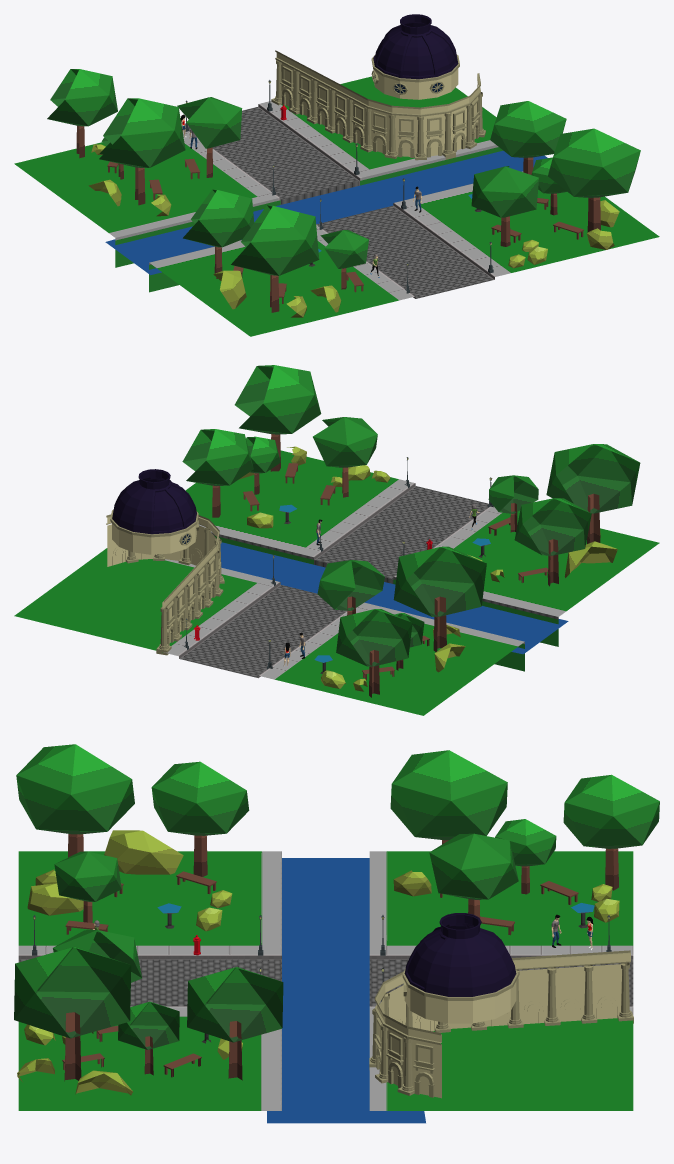
Rendered from museums_insel.glb.
3 renders of one model, top to bottom at view 1: azimuth 30°, elevation 25°; view 2: azimuth 150°, elevation 25°; view 3: azimuth 270°, elevation 25°, orthographic. The views are drawn at different scales.
Parts seen in each view (by area): view 1: Road2, 2, Water, Tree.018, Tree.006, Tree.016, Tree.019, Tree.005, Tree.014, Tree.013, Tree.012, Tree.017 (+2 smaller); view 2: Road2, 2, Water, Tree.006, Tree.016, Tree.018, Tree.005, Tree.013, Tree.019, Tree.014, Tree.012, Tree.017 (+2 smaller); view 3: Road2, 2, Water, Tree.018, Tree.016, Tree.006, Tree.019, Tree.005, Tree.013, Tree.012, Tree.017, Shrubs.021 (+6 smaller).
Boxes of the visible parts, <box> form: Road2: <box>14,76,659,336</box>; 2: <box>271,14,485,160</box>; Water: <box>105,150,547,275</box>; Tree.018: <box>548,128,640,232</box>; Tree.006: <box>99,98,185,205</box>; Tree.016: <box>231,205,319,312</box>; Tree.019: <box>490,101,566,174</box>; Tree.005: <box>47,69,117,158</box>; Tree.014: <box>471,166,538,246</box>; Tree.013: <box>183,189,254,278</box>; Tree.012: <box>177,97,242,177</box>; Tree.017: <box>320,230,368,289</box>; Road2: <box>14,450,659,715</box>; 2: <box>106,469,224,655</box>; Water: <box>220,542,568,654</box>; Tree.006: <box>393,546,486,651</box>; Tree.016: <box>546,444,640,543</box>; Tree.018: <box>234,365,321,471</box>; Tree.005: <box>336,609,412,697</box>; Tree.013: <box>514,498,591,586</box>; Tree.019: <box>182,429,253,517</box>; Tree.014: <box>313,417,377,497</box>; Tree.012: <box>317,560,384,615</box>; Tree.017: <box>488,475,538,532</box>; Road2: <box>18,851,633,1110</box>; 2: <box>369,913,633,1098</box>; Water: <box>267,858,425,1123</box>; Tree.018: <box>14,946,131,1081</box>; Tree.016: <box>16,744,134,857</box>; Tree.006: <box>390,750,507,844</box>; Tree.019: <box>187,967,283,1080</box>; Tree.005: <box>563,774,659,890</box>; Tree.013: <box>151,761,249,876</box>; Tree.012: <box>429,833,518,927</box>; Tree.017: <box>54,851,121,922</box>; Shrubs.021: <box>104,830,183,874</box>.
Size of the model in its own units: 40.85 by 13.02 by 42.04.
5 materials, 5 textured.
